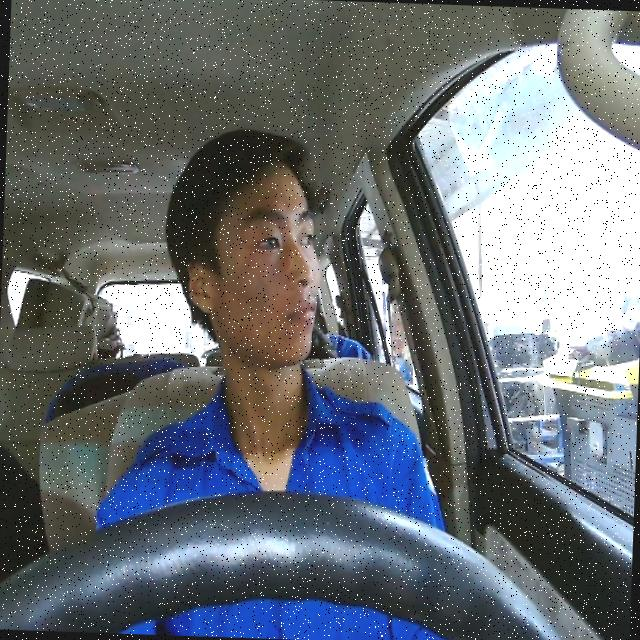seeing_right: (179, 154, 325, 367)
